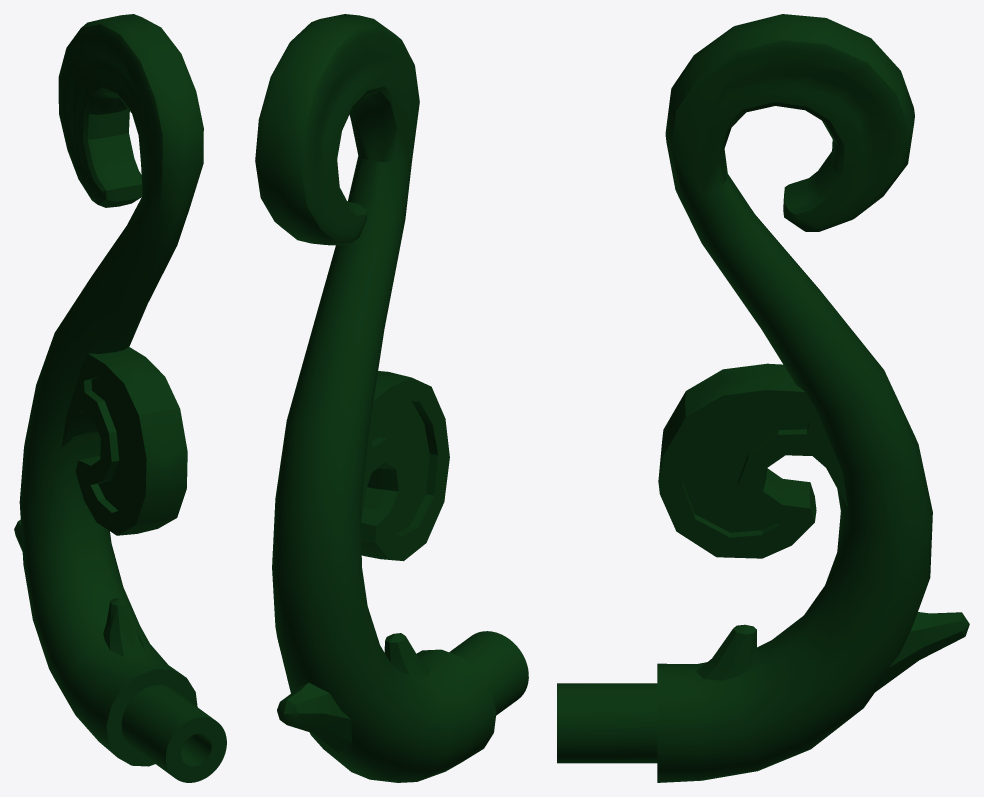
File: plant_stern_curved_with_bar_thorns_and_swirls_green.obj
The picture shows the model from 3 angles, left to right: view 1: azimuth 30°, elevation 25°; view 2: azimuth 150°, elevation 25°; view 3: azimuth 270°, elevation 25°; orthographic projection. The views are drawn at different scales.
Bounding box in the file's own units: 14.66 × 86.05 × 41.25.
